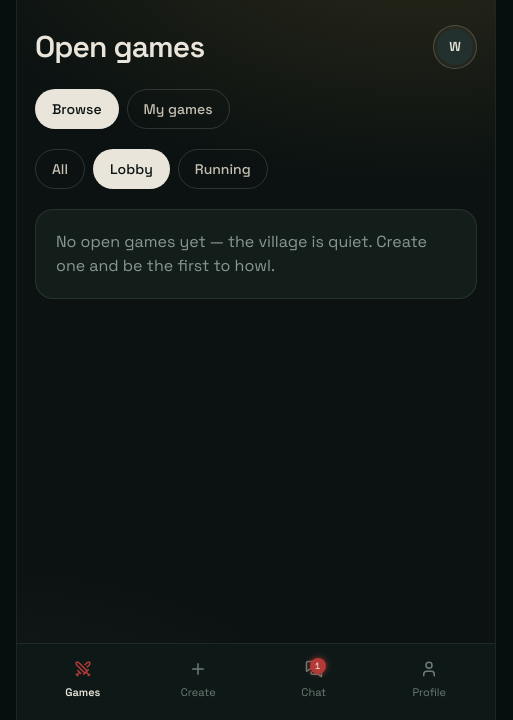
Test case: opening global chat does not mark pushed rows read
expect the heading "Open games" is shown: met, box [35,24,204,69]
Click the button with aria-label "Chat, 1".
click(314, 680)  # box [256,652,372,708]
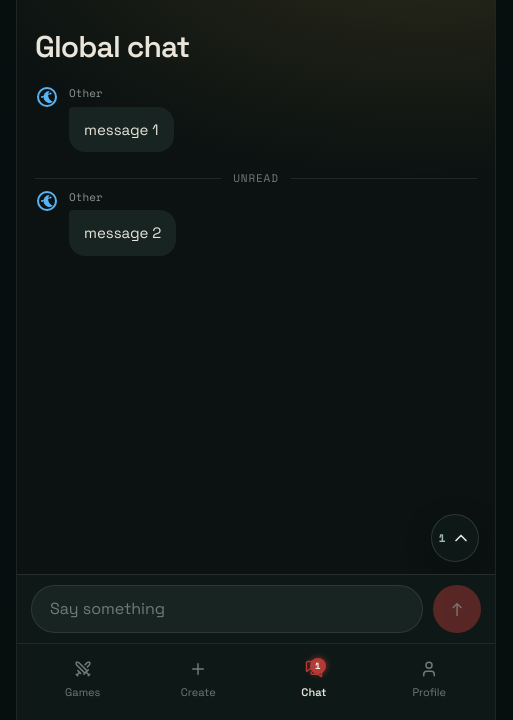
expect the heading "Global chat" is shown: met, box [35,27,189,66]
